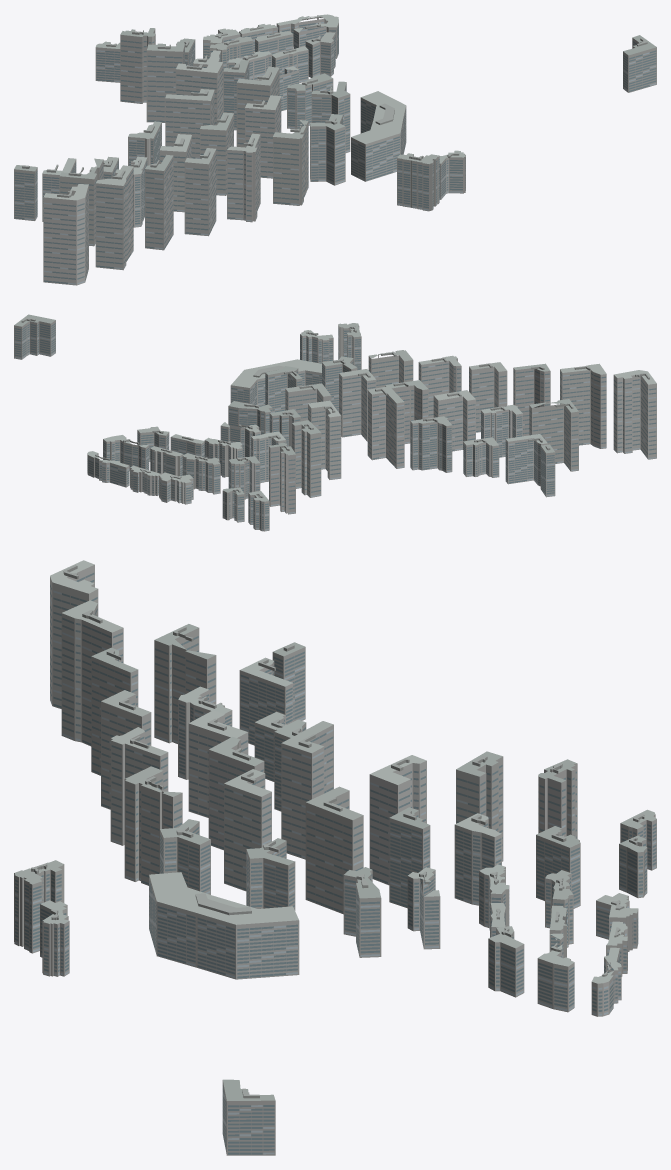
File: apt-a10025263.glb
3 renders of one model, top to bottom at view 1: azimuth 30°, elevation 25°; view 2: azimuth 150°, elevation 25°; view 3: azimuth 270°, elevation 25°, orthographic. The views are drawn at different scales.
Visible parts, largest first — view 1: apt-a10025263; view 2: apt-a10025263; view 3: apt-a10025263.
Boxes of the visible parts, box(x1,y1,x2,y2) form: apt-a10025263: box(14, 14, 656, 285); apt-a10025263: box(14, 314, 656, 531); apt-a10025263: box(14, 560, 656, 1155).
Size of the model in its own units: 845 by 106 by 487.
